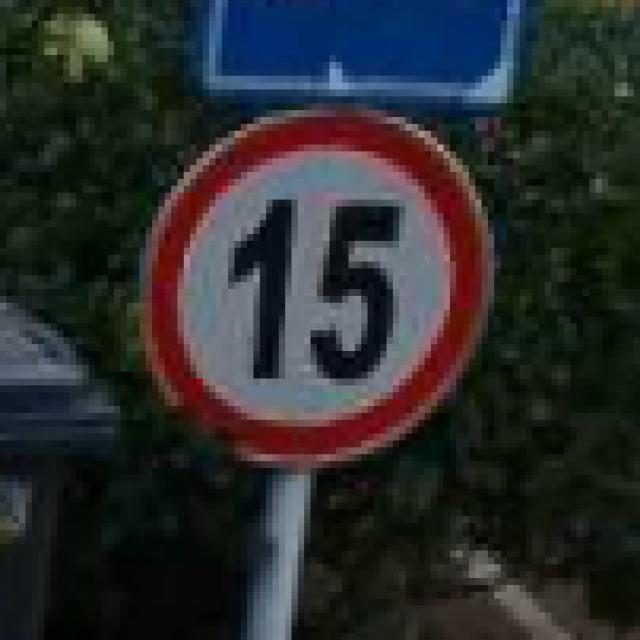speed limit 20: (136, 112, 495, 468)
